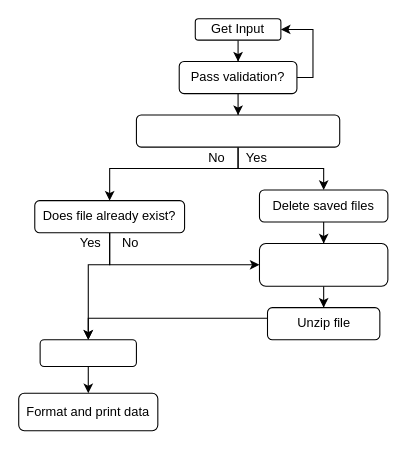
The diagram is 407 pixels wide and 449 high, and some of its shapes have lost their labels. The shapes that lost their labels are listed below. From the top down, each one's centre as x and y in pixels, then its label:
[237,130]: Clear cache flag added?
[323,264]: Fetch zipped JSON
[87,352]: Parse data
